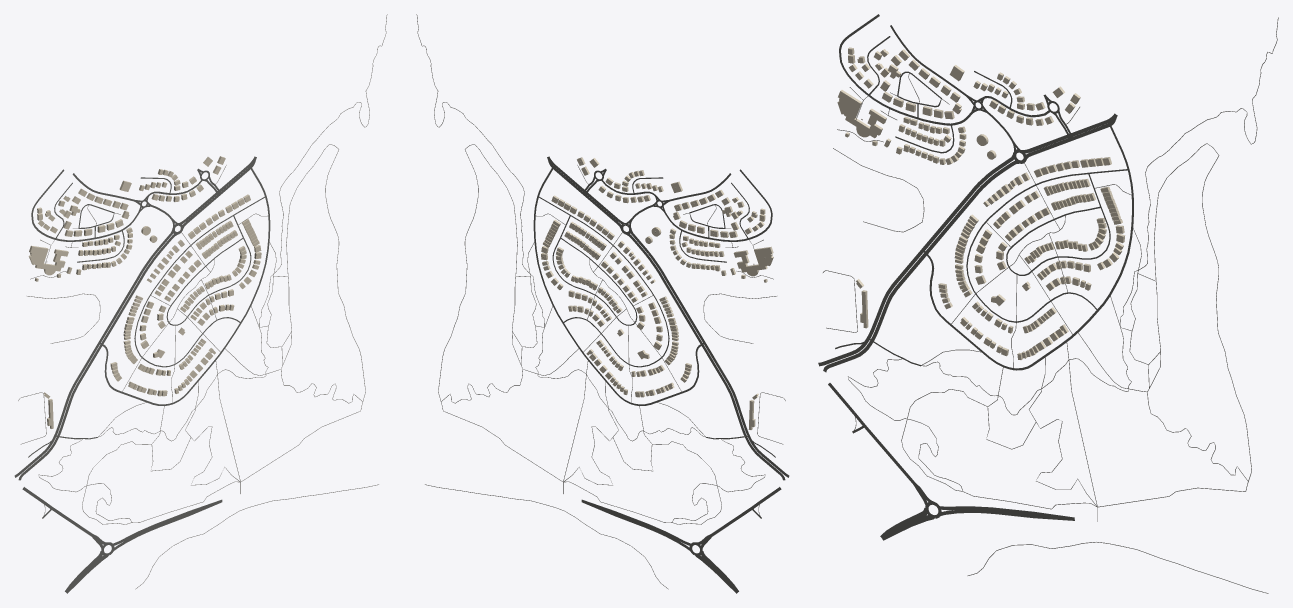
The model's file is historic-palestine-10_36_3515_3307.glb.
The picture shows the model from 3 angles, left to right: view 1: azimuth 30°, elevation 25°; view 2: azimuth 150°, elevation 25°; view 3: azimuth 330°, elevation 25°; orthographic projection. The views are drawn at different scales.
Visible parts, largest first — view 1: Building_.056, Road .014, Road האלון, Road הארזים, Road 8990.001; view 2: Building_.056, Road .014, Road האלון, Road 8990.001, Road הארזים; view 3: Building_.056, Road .014, Road האלון, Road 8990.001, Road 8990.002, Road הארזים, Road דרור.
Boxes of the visible parts, left/top/right/bottom form: Building_.056: left=28, top=245, right=68, bottom=275; Road .014: left=97, top=14, right=387, bottom=441; Road האלון: left=134, top=196, right=265, bottom=367; Road הארזים: left=101, top=322, right=241, bottom=405; Road 8990.001: left=14, top=342, right=99, bottom=477; Building_.056: left=733, top=246, right=773, bottom=276; Road .014: left=416, top=14, right=706, bottom=441; Road האלון: left=538, top=196, right=669, bottom=367; Road 8990.001: left=704, top=342, right=789, bottom=477; Road הארזים: left=562, top=322, right=701, bottom=405; Building_.056: left=837, top=90, right=886, bottom=138; Road .014: left=921, top=17, right=1278, bottom=415; Road האלון: left=966, top=169, right=1128, bottom=322; Road 8990.001: left=818, top=249, right=924, bottom=366; Road 8990.002: left=823, top=252, right=926, bottom=372; Road הארזים: left=926, top=253, right=1098, bottom=370; Road דרור: left=839, top=14, right=972, bottom=125.
Bounding box in the file's own units: 1123 × 1479 × 8.7.
